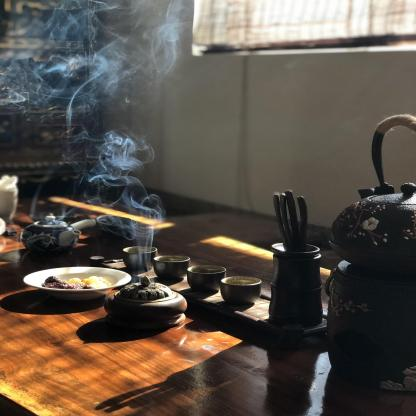smoke: (0, 2, 190, 281)
